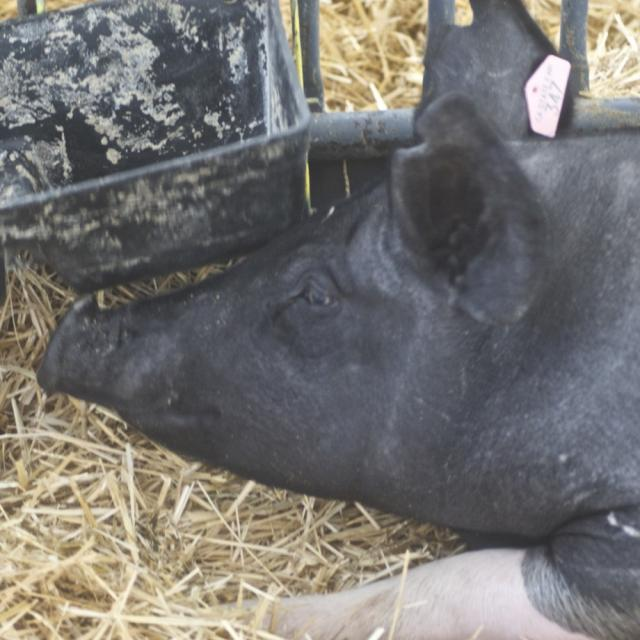Pig: (36, 0, 640, 640)
